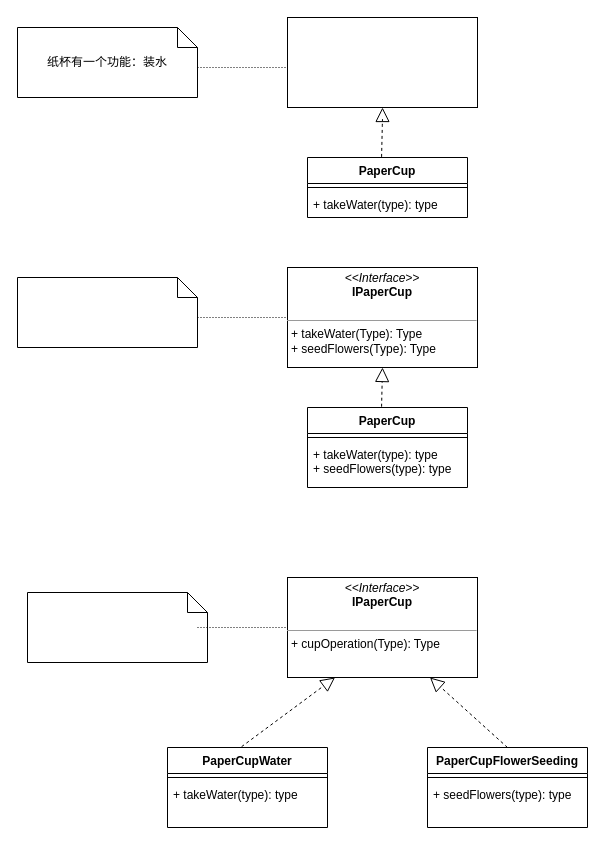
The diagram is 605 pixels wide and 848 high, and some of its shapes have lost their labels. The shapes that lost their labels are listed below. From the top down, each one's centre as x and y in pixels, then its label:
At (382,62): "<<Interface>> IPaperCup + takeWater(Type): Type".
At (107,312): "纸杯有两个功能：装水、种花".
At (117,627): "纸杯接口".
